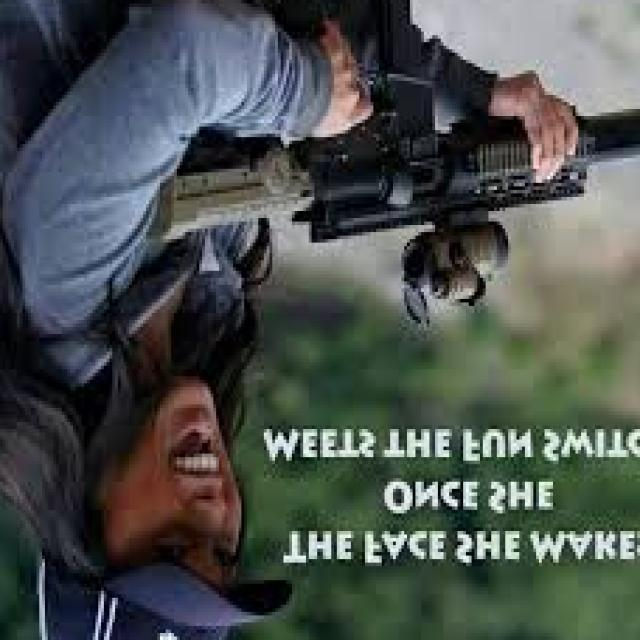gun: (132, 0, 640, 355)
